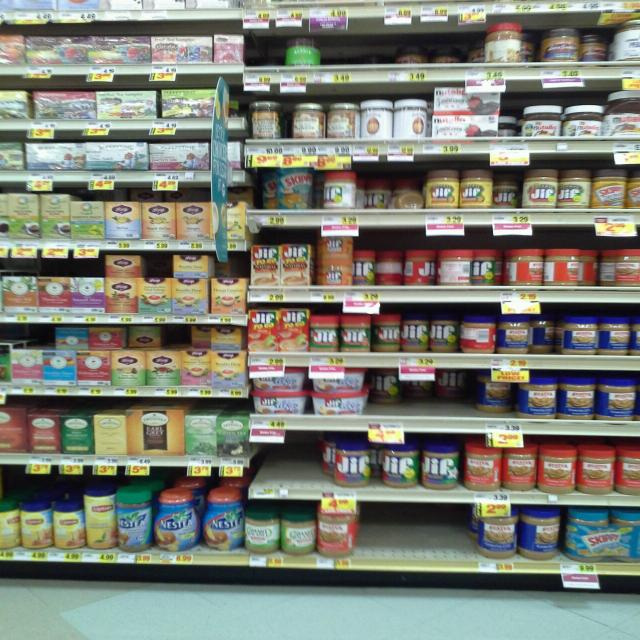void: (284, 431, 328, 504), (402, 499, 438, 579), (440, 501, 476, 577), (365, 500, 401, 572), (354, 32, 396, 86), (248, 32, 278, 90), (257, 436, 279, 505), (323, 32, 352, 82)
